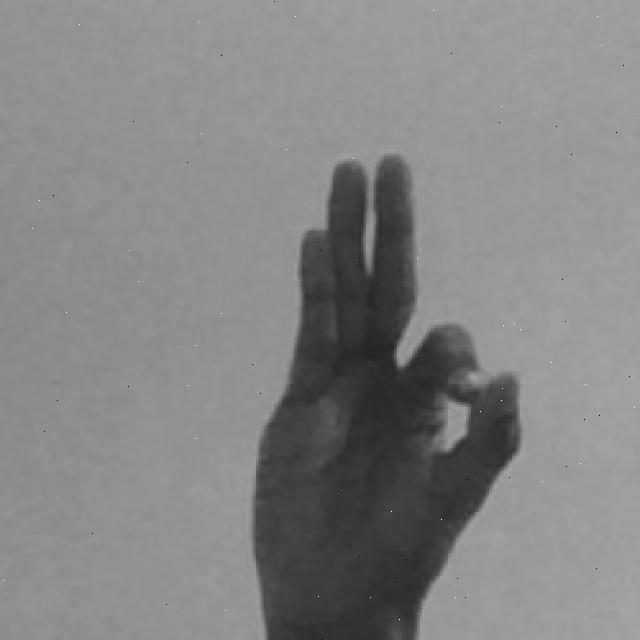F: (245, 152, 530, 640)
